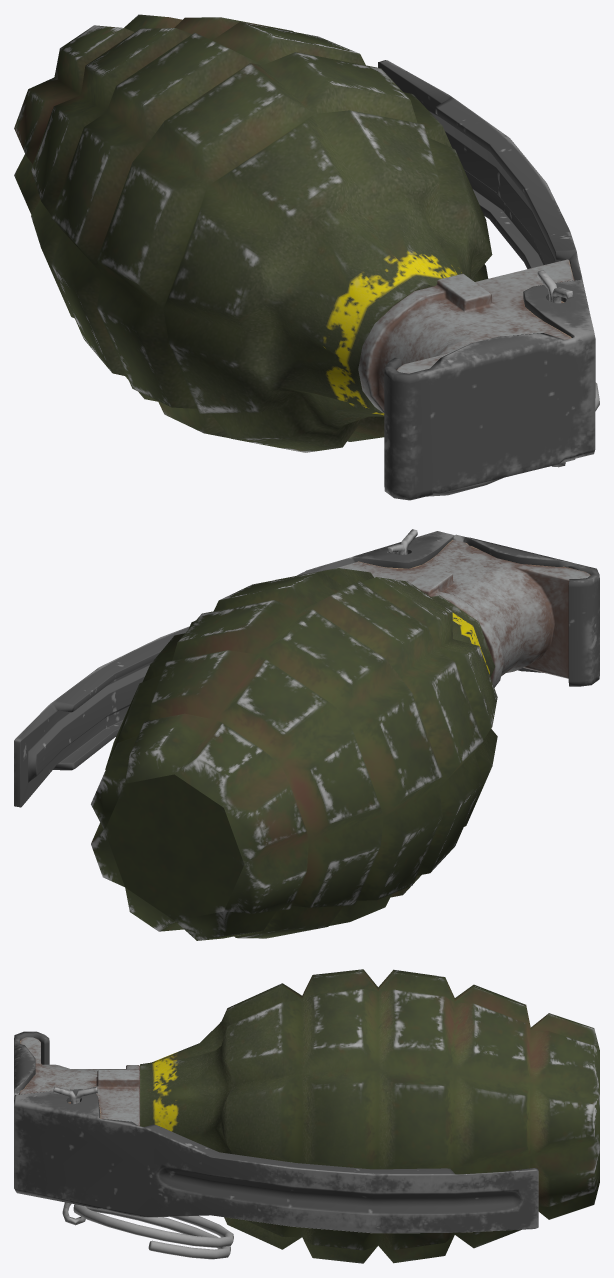
3 views of the same model, one above another, from view 1: azimuth 30°, elevation 25°; view 2: azimuth 150°, elevation 25°; view 3: azimuth 270°, elevation 25° (orthographic). The views are drawn at different scales.
Visible parts, largest first — view 1: GrenadeBody, GrenadeSwitch, GrenadeTop; view 2: GrenadeBody, GrenadeSwitch, GrenadeTop; view 3: GrenadeBody, GrenadeSwitch, GrenadeTop, GrenadeRing, GrenadePin.
Boxes of the visible parts, x1=… form: GrenadeBody: x1=14, y1=14, x2=492, y2=452; GrenadeSwitch: x1=378, y1=60, x2=595, y2=500; GrenadeTop: x1=358, y1=259, x2=574, y2=412; GrenadeBody: x1=91, y1=568, x2=497, y2=940; GrenadeSwitch: x1=14, y1=531, x2=599, y2=807; GrenadeTop: x1=336, y1=539, x2=590, y2=687; GrenadeBody: x1=140, y1=969, x2=599, y2=1263; GrenadeSwitch: x1=14, y1=1031, x2=538, y2=1233; GrenadeTop: x1=19, y1=1037, x2=139, y2=1126; GrenadeRing: x1=73, y1=1204, x2=233, y2=1259; GrenadePin: x1=53, y1=1086, x2=97, y2=1225.
Bounding box in the file's own units: 0.1099 × 0.092 × 0.18.
1 material, 1 textured.
